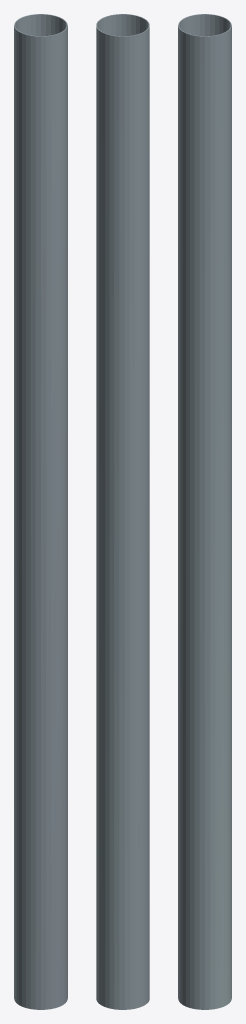
The model's file is Pipe.fbx.
3 views of the same model, side by side, from view 1: azimuth 90°, elevation 25°; view 2: azimuth 150°, elevation 25°; view 3: azimuth 270°, elevation 25° (orthographic).
Visible parts, largest first — view 1: Cylinder; view 2: Cylinder; view 3: Cylinder.
Boxes of the visible parts, <box> form: Cylinder: <box>14,14,67,1009</box>; Cylinder: <box>96,14,149,1009</box>; Cylinder: <box>178,14,231,1009</box>.
Size of the model in its own units: 10 by 200 by 10.
